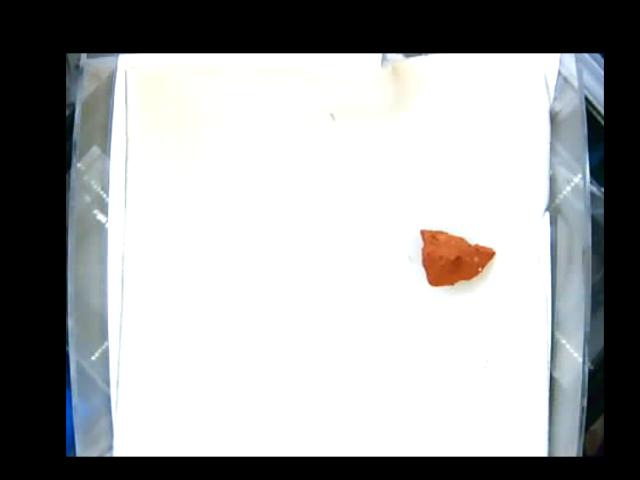Brisk: (419, 228, 500, 283)
